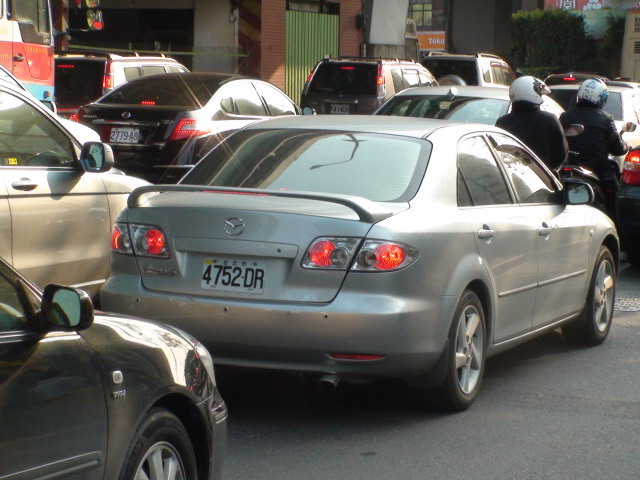plate: (201, 254, 269, 296), (108, 125, 141, 145)
